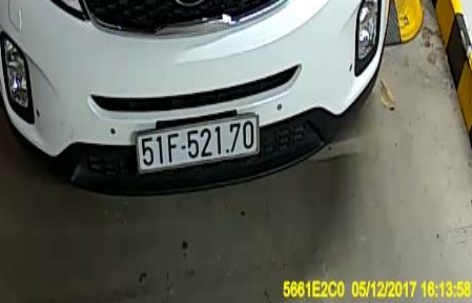plate: (130, 113, 263, 177)
